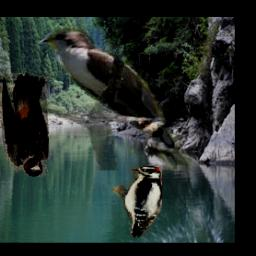Cuckoo: (39, 29, 193, 170)
Swallow: (1, 72, 50, 177)
Woodpecker: (114, 165, 163, 237)
